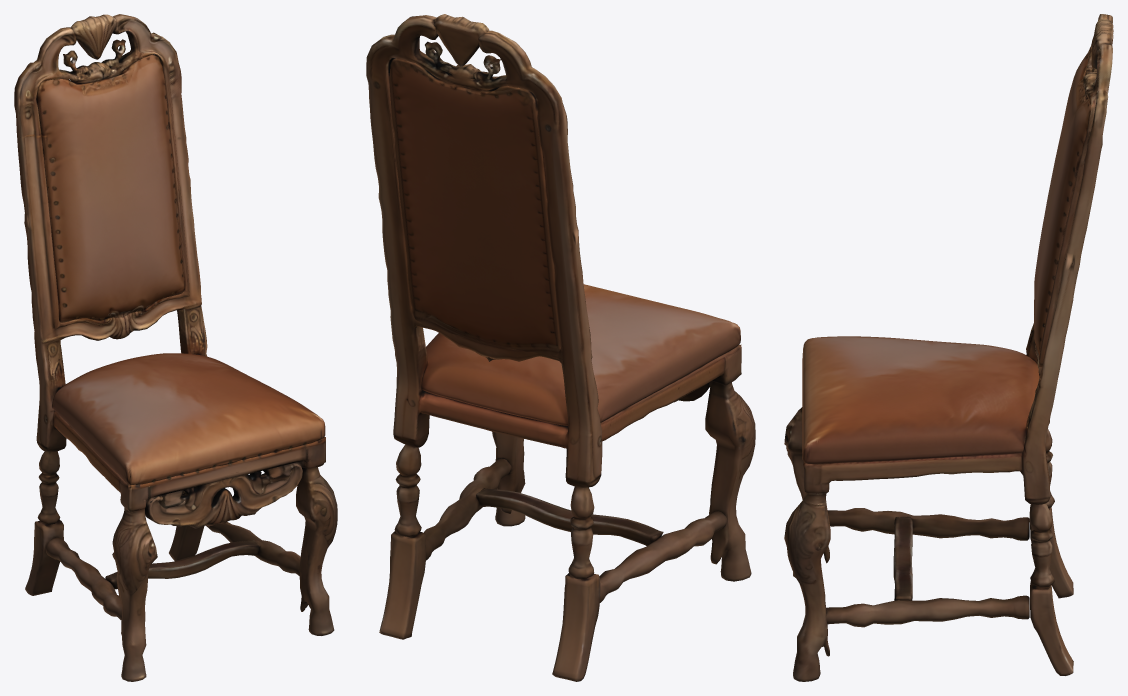
3 renders of one model, left to right at view 1: azimuth 30°, elevation 25°; view 2: azimuth 150°, elevation 25°; view 3: azimuth 270°, elevation 25°, orthographic. The views are drawn at different scales.
Visible parts, largest first — view 1: root.1, root.0, root.2, root.3, root.4, root.7, root.5, root.9, root.6, root.10, root.8; view 2: root.1, root.0, root.2, root.3, root.9, root.8, root.7, root.5, root.6, root.11, root.10, root.4; view 3: root.2, root.0, root.1, root.4, root.6, root.5, root.8, root.11, root.7, root.3, root.9.
Boxes of the visible parts, left/top/right/bottom form: root.1: left=36, top=14, right=184, bottom=339; root.0: left=14, top=14, right=325, bottom=528; root.2: left=52, top=353, right=325, bottom=484; root.3: left=112, top=499, right=157, bottom=681; root.4: left=296, top=459, right=337, bottom=635; root.7: left=105, top=540, right=261, bottom=589; root.5: left=45, top=537, right=121, bottom=620; root.9: left=25, top=519, right=63, bottom=595; root.6: left=205, top=522, right=300, bottom=575; root.10: left=37, top=451, right=60, bottom=524; root.8: left=169, top=490, right=204, bottom=561; root.1: left=389, top=14, right=560, bottom=361; root.0: left=366, top=15, right=741, bottom=487; root.2: left=421, top=284, right=740, bottom=425; root.3: left=705, top=378, right=755, bottom=581; root.9: left=552, top=573, right=600, bottom=681; root.8: left=379, top=531, right=426, bottom=639; root.7: left=476, top=488, right=663, bottom=545; root.5: left=599, top=511, right=727, bottom=602; root.6: left=424, top=458, right=511, bottom=560; root.11: left=394, top=444, right=421, bottom=536; root.10: left=568, top=486, right=594, bottom=578; root.4: left=492, top=431, right=525, bottom=526; root.2: left=802, top=336, right=1039, bottom=464; root.0: left=803, top=14, right=1112, bottom=504; root.1: left=1034, top=18, right=1113, bottom=356; root.4: left=784, top=493, right=830, bottom=681; root.6: left=826, top=595, right=1029, bottom=627; root.5: left=827, top=508, right=1029, bottom=540; root.8: left=1030, top=581, right=1073, bottom=675; root.11: left=1029, top=503, right=1054, bottom=587; root.7: left=893, top=516, right=912, bottom=600; root.3: left=784, top=407, right=829, bottom=577; root.9: left=1030, top=504, right=1073, bottom=598.
Bounding box in the file's own units: 0.4928 × 1.17 × 0.5782.
Materials: 12 (12 with a texture image).
